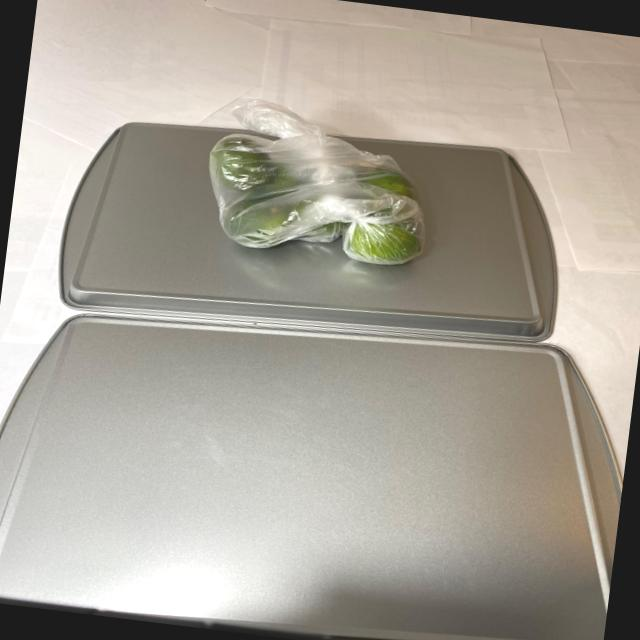lemon: (188, 120, 438, 270)
